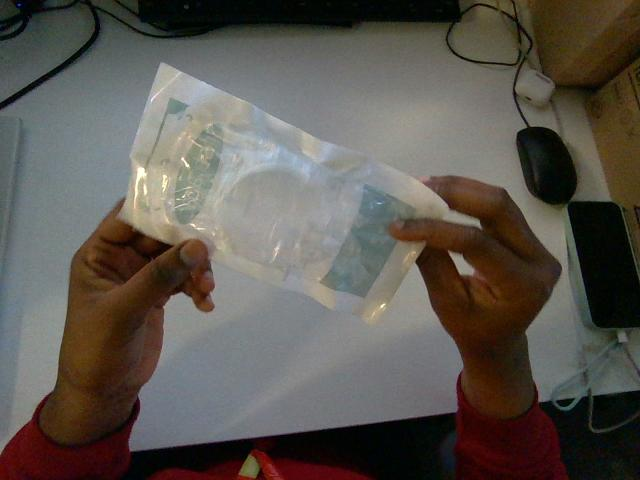gallipot: (120, 64, 446, 321)
